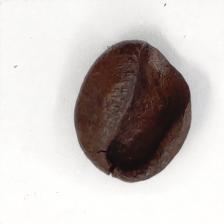NG: (113, 40, 194, 134), (98, 122, 166, 183)
